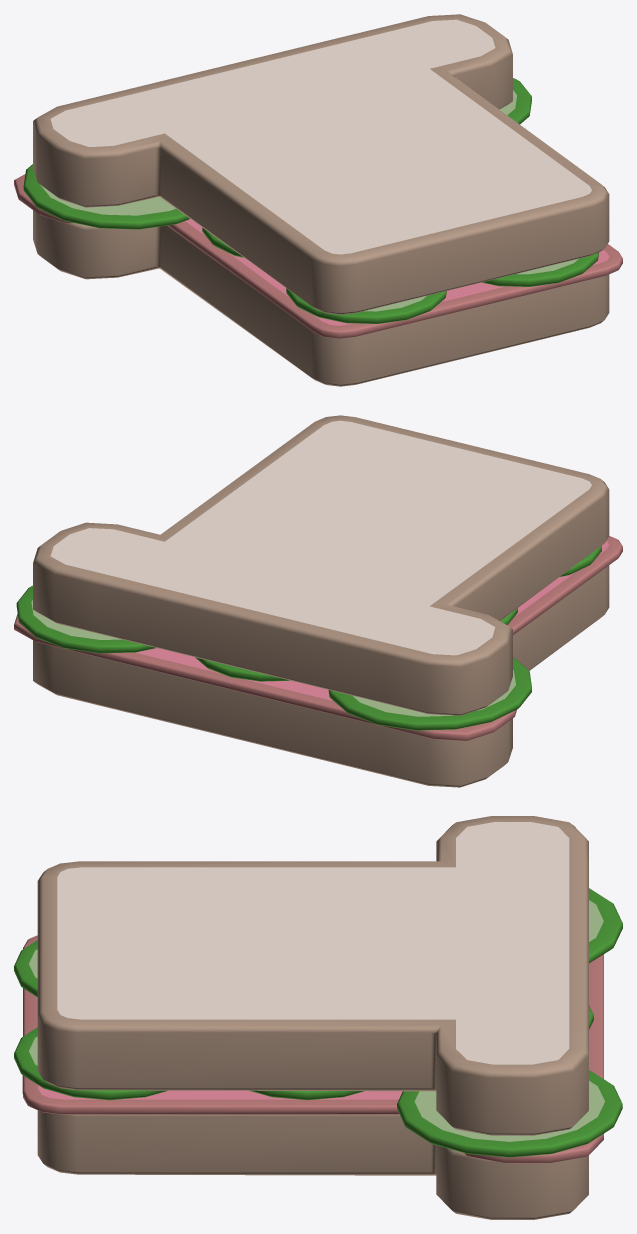
Rendered from Sandwich_1.glb.
3 views of the same model, one above another, from view 1: azimuth 30°, elevation 25°; view 2: azimuth 150°, elevation 25°; view 3: azimuth 270°, elevation 25° (orthographic). The views are drawn at different scales.
Visible parts, largest first — view 1: Sandwich_1; view 2: Sandwich_1; view 3: Sandwich_1.
Part boxes in pixels (box(x1,y1,x2,y2)): Sandwich_1: box(14, 14, 622, 386); Sandwich_1: box(14, 415, 622, 787); Sandwich_1: box(14, 816, 622, 1219).
Bounding box in the file's own units: 0.2913 × 0.0724 × 0.2681.
1 material, 1 textured.
